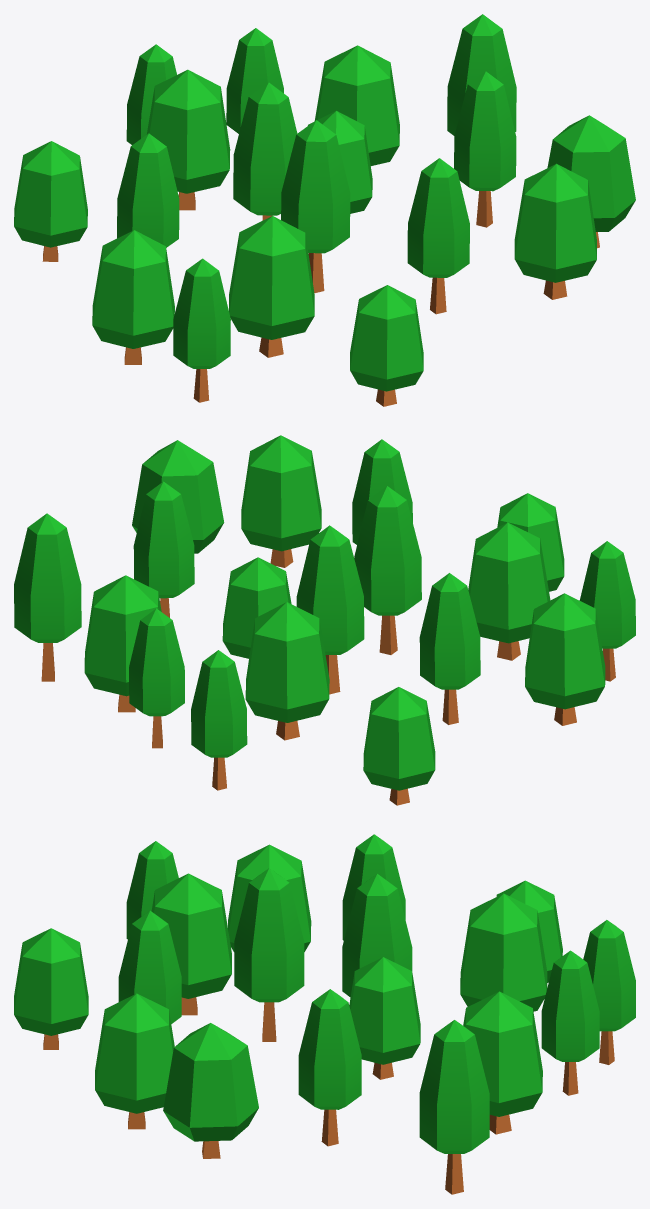
Rendered from nature_ForestHill.fbx.
The picture shows the model from 3 angles, top to bottom: view 1: azimuth 30°, elevation 25°; view 2: azimuth 150°, elevation 25°; view 3: azimuth 270°, elevation 25°; orthographic projection. The views are drawn at different scales.
Parts seen in each view (by area): view 1: Forest; view 2: Forest; view 3: Forest.
Boxes of the visible parts, box(x1,y1,x2,y2) form: Forest: box(14, 14, 635, 406); Forest: box(14, 435, 635, 805); Forest: box(14, 834, 635, 1194).
Bounding box in the file's own units: 164 × 60.95 × 172.
